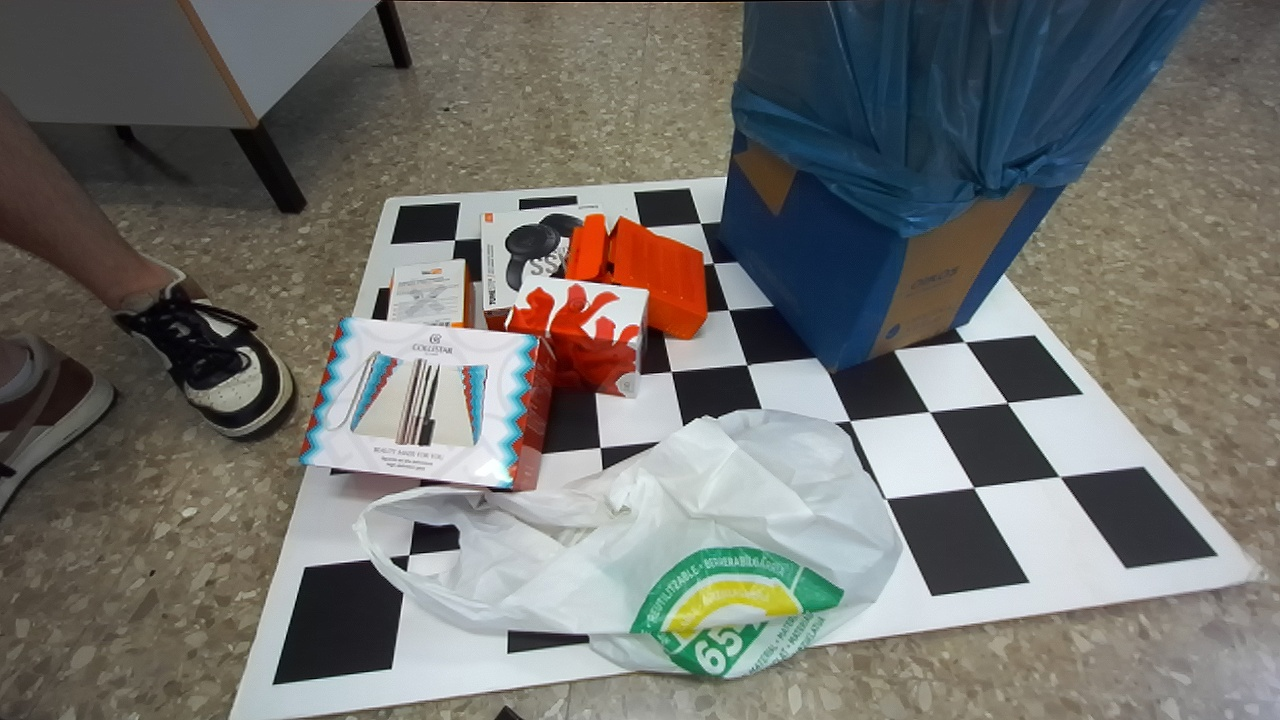caja_busbar: (301, 318, 554, 488)
caja_chasis: (480, 204, 598, 328)
caja_manguera: (564, 214, 706, 338)
caja_pcb: (387, 259, 471, 326)
caja_potencia: (506, 276, 646, 396)
